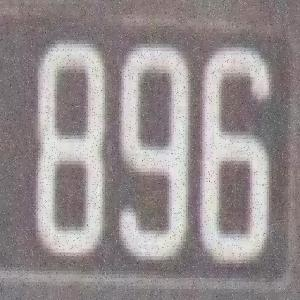Plate: (2, 10, 295, 293)
